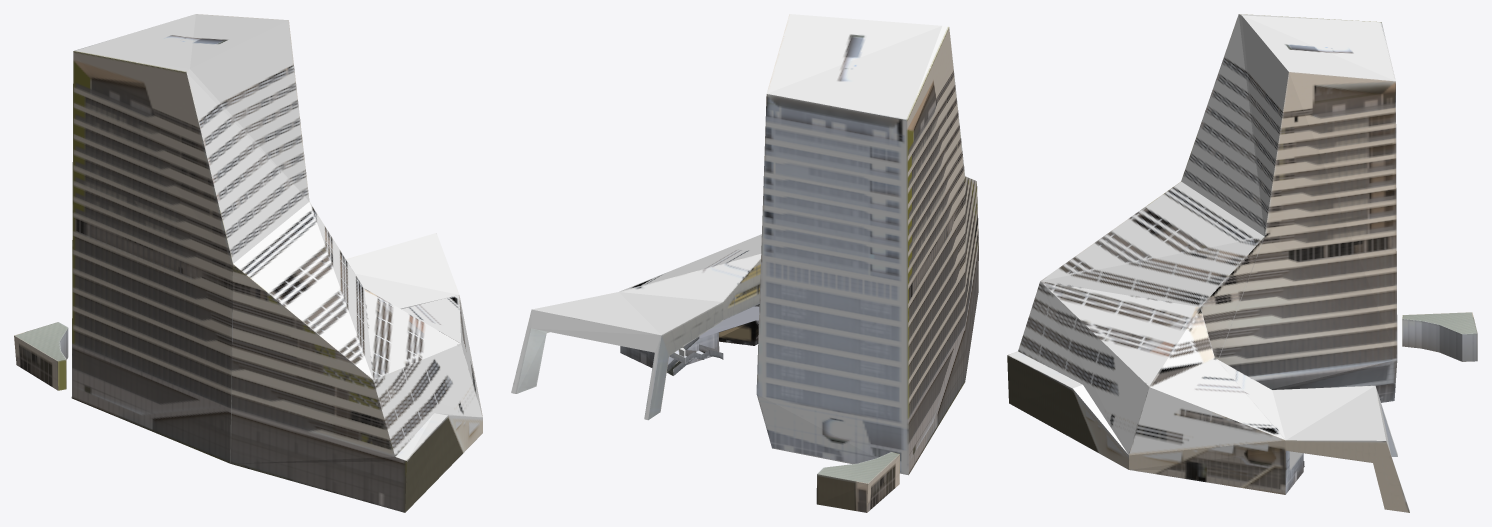
The model's file is 501_PALCED_FF.glb.
3 renders of one model, left to right at view 1: azimuth 30°, elevation 25°; view 2: azimuth 150°, elevation 25°; view 3: azimuth 270°, elevation 25°, orthographic. The views are drawn at different scales.
Parts seen in each view (by area): view 1: 501_001; view 2: 501_001; view 3: 501_001.
Boxes of the visible parts, bbox=[...] form: 501_001: bbox=[14, 14, 482, 512]; 501_001: bbox=[511, 14, 978, 512]; 501_001: bbox=[1007, 14, 1477, 512].
Bounding box in the file's own units: 89.25 × 83.73 × 102.
Materials: 1 (1 with a texture image).
